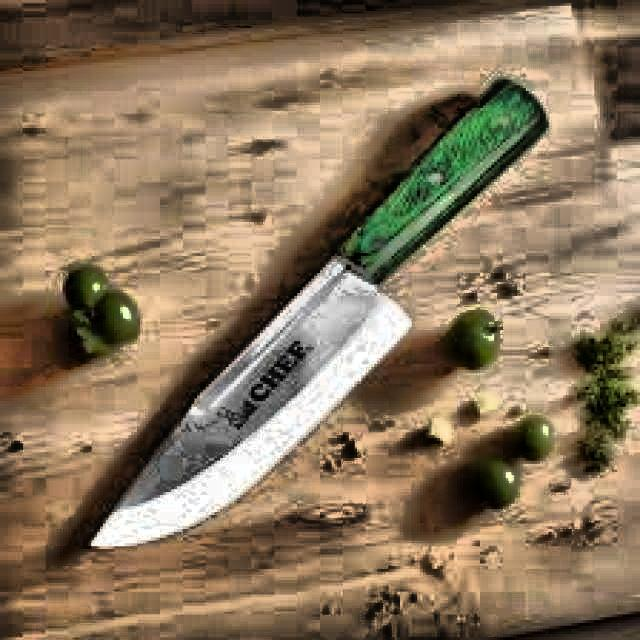knife: (82, 75, 557, 552)
